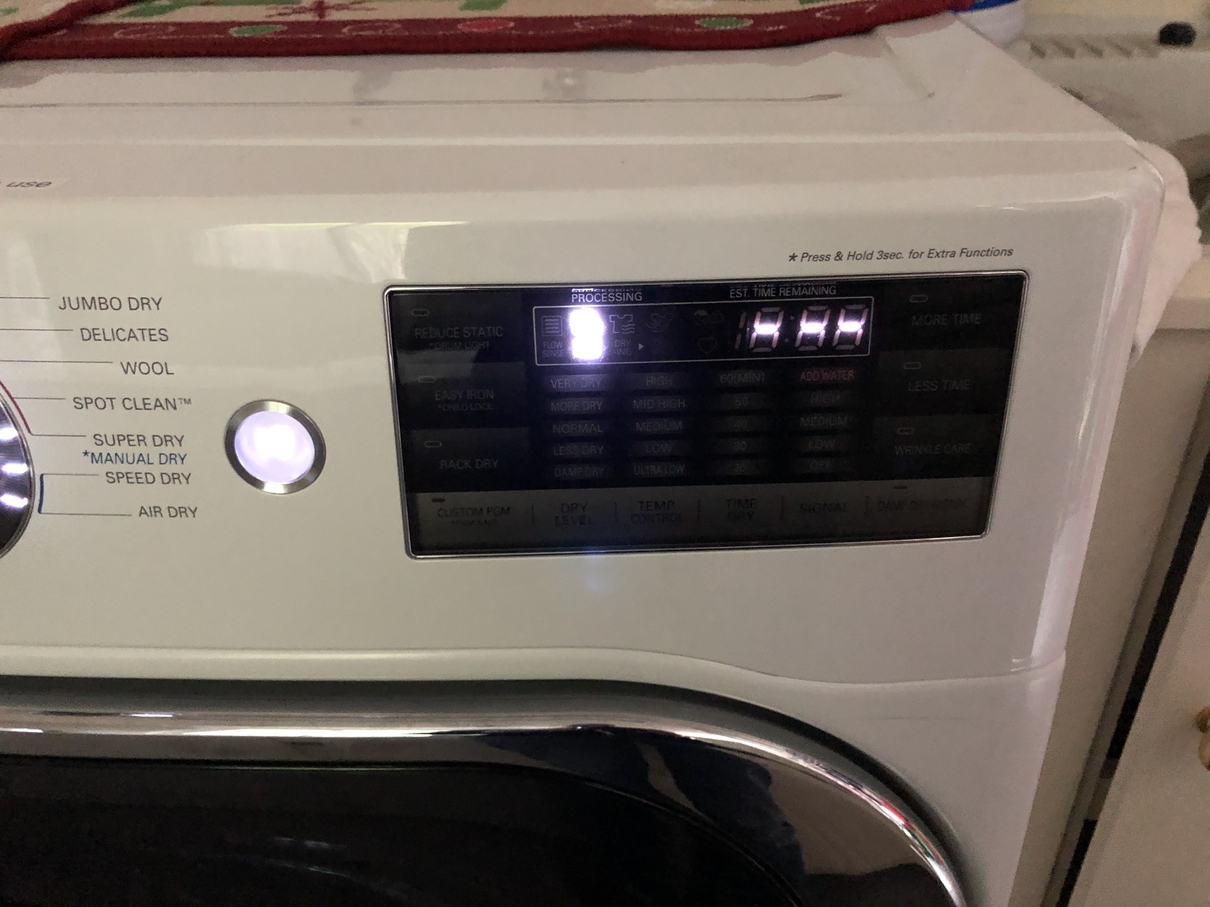status: (524, 283, 883, 371)
